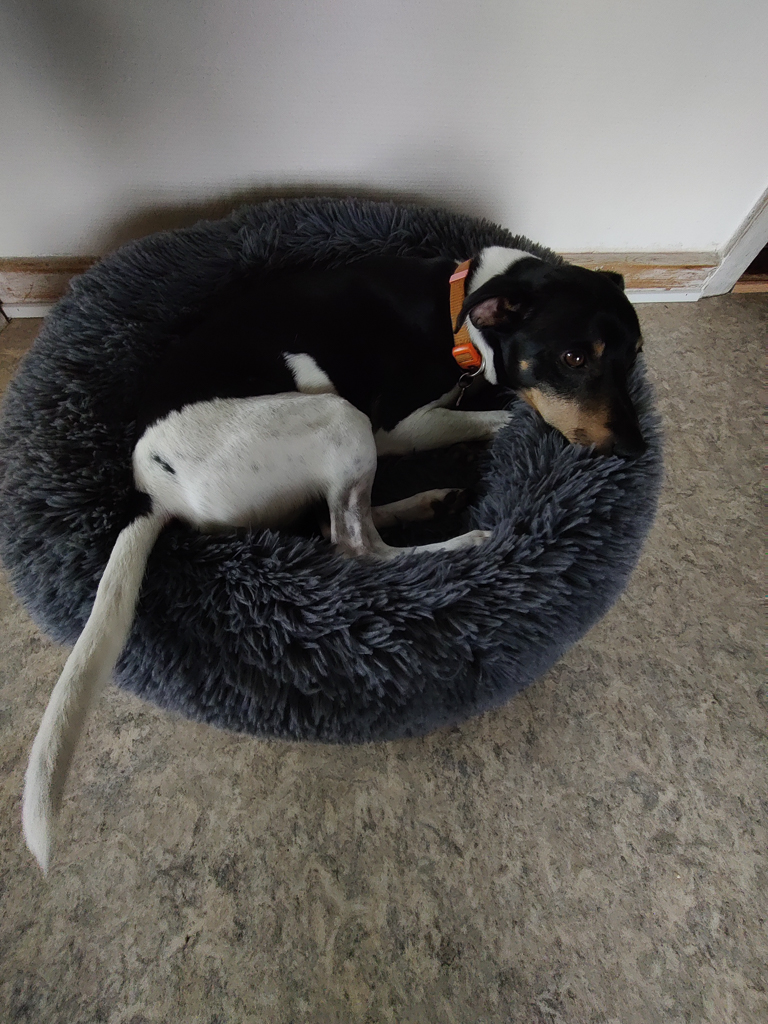Dog: (14, 219, 700, 908)
